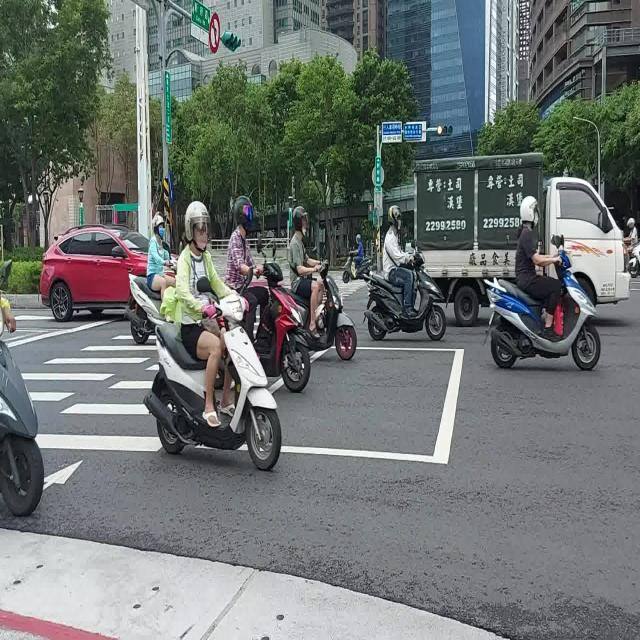car: (40, 224, 149, 320)
crosswalk: (36, 361, 162, 452), (20, 328, 158, 403)
motocycle: (145, 291, 281, 469), (485, 249, 600, 370), (0, 340, 44, 516), (364, 249, 446, 340), (254, 258, 310, 391), (300, 260, 356, 360), (125, 276, 165, 344), (342, 251, 372, 282)
trunk: (414, 153, 630, 324)
